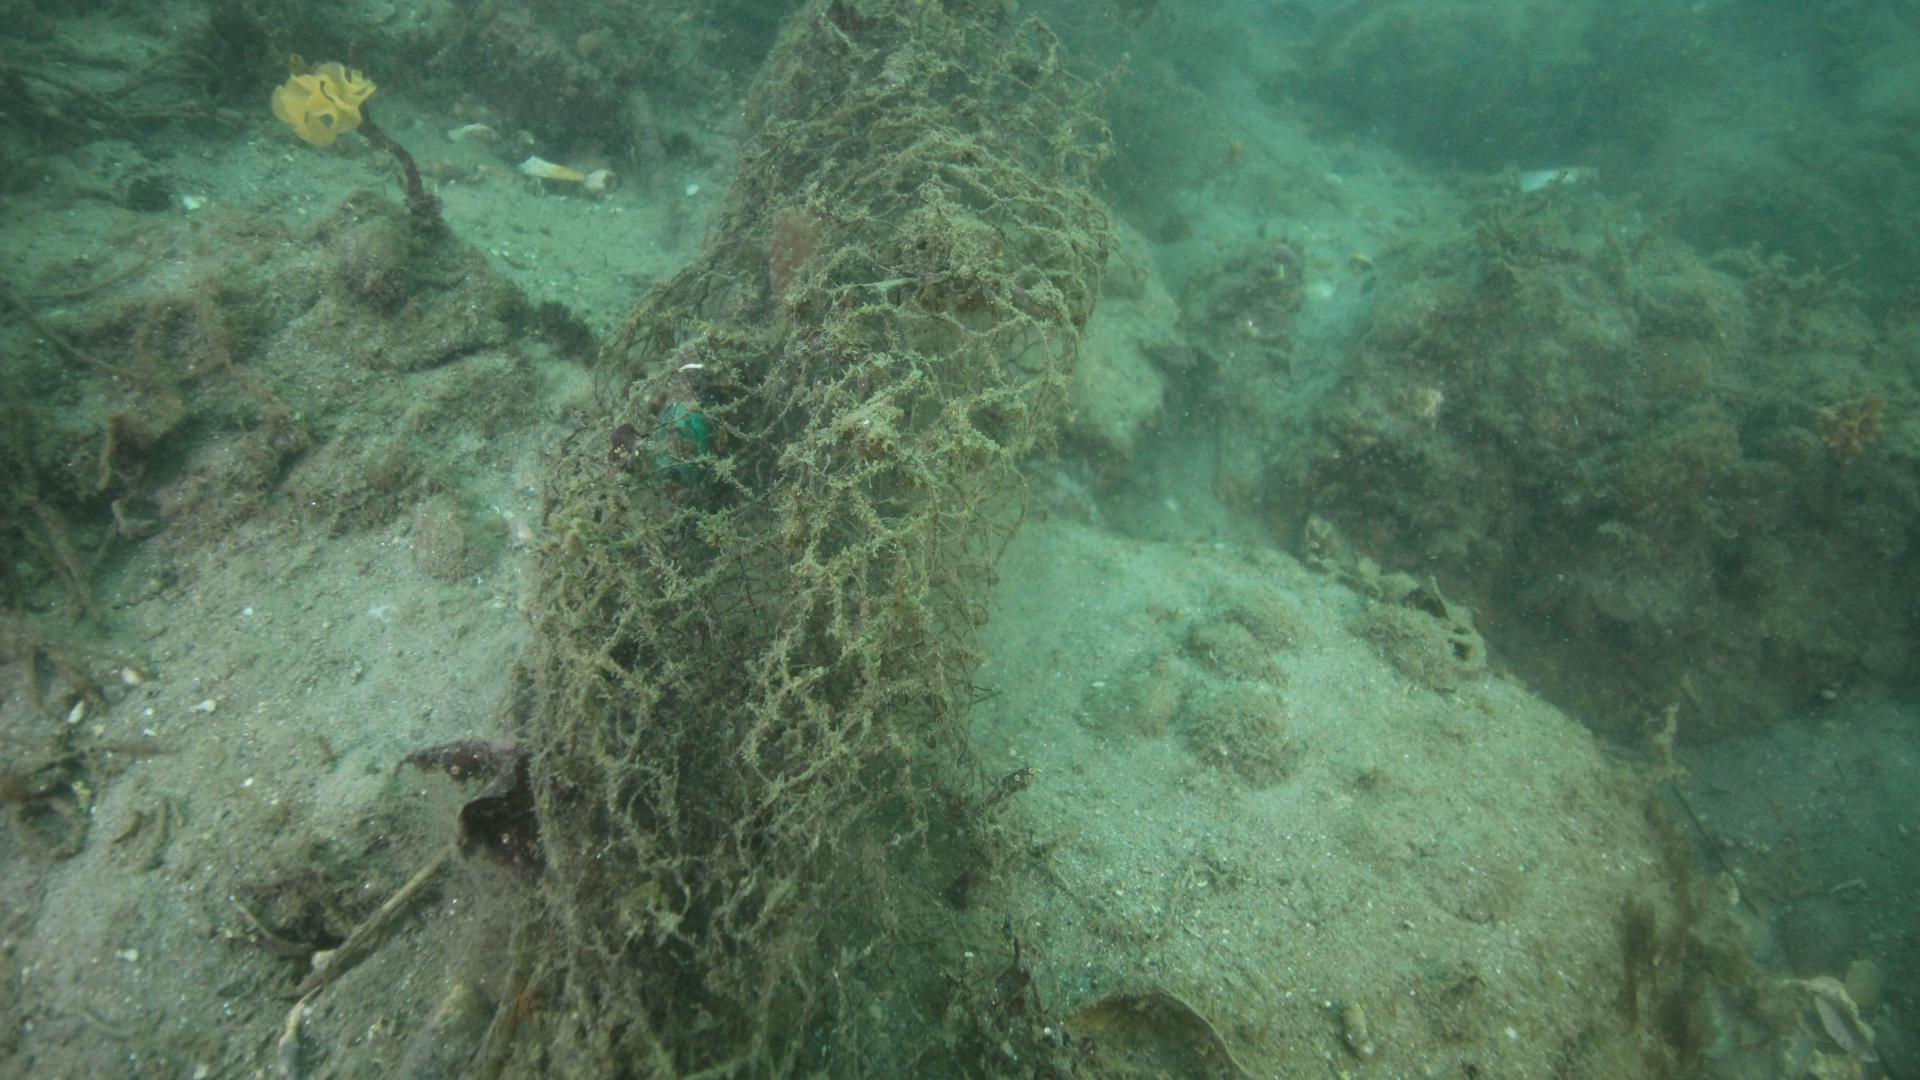fish net: (527, 0, 1114, 943)
